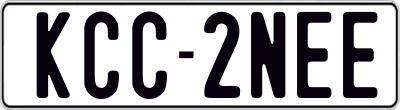2: (202, 11, 244, 97)
C: (129, 10, 170, 101), (83, 11, 124, 99)
E: (297, 9, 331, 100), (342, 11, 377, 99)
K: (37, 9, 73, 98)
N: (251, 10, 291, 100)
